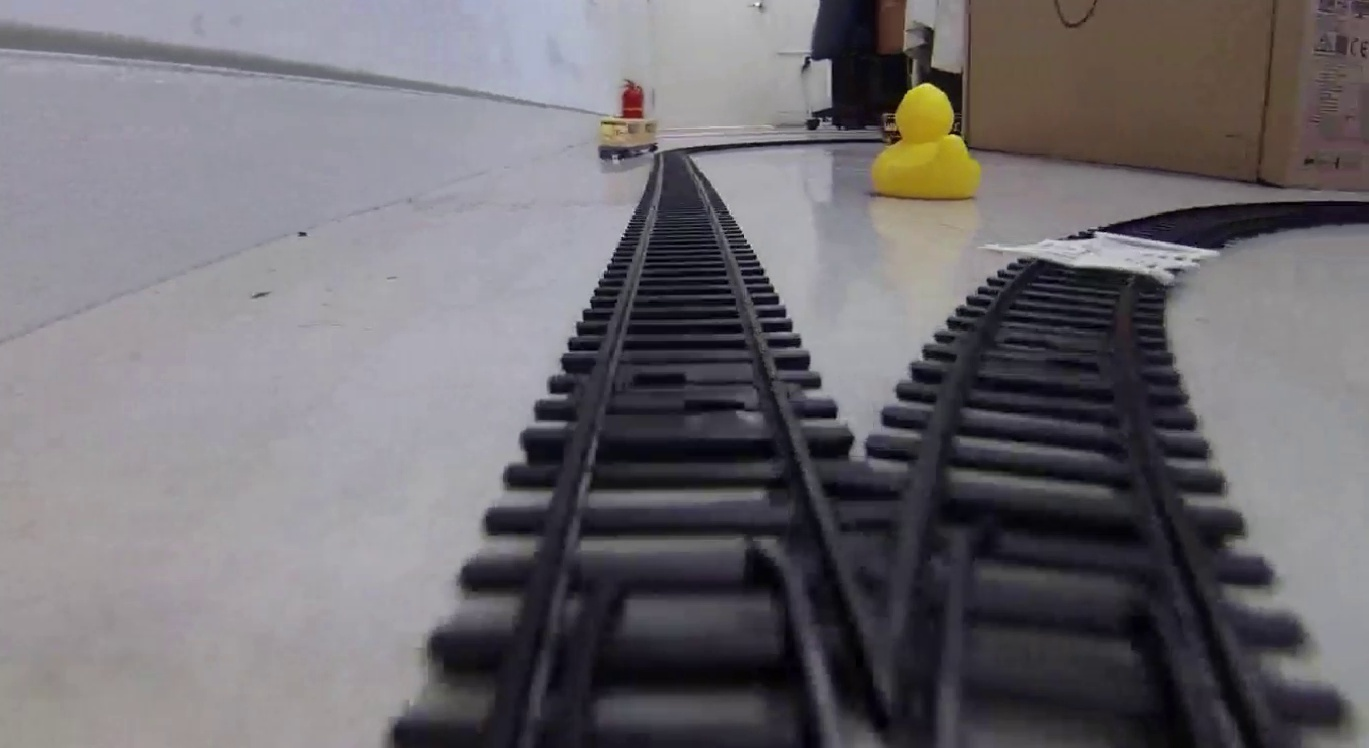web: (987, 226, 1220, 288)
